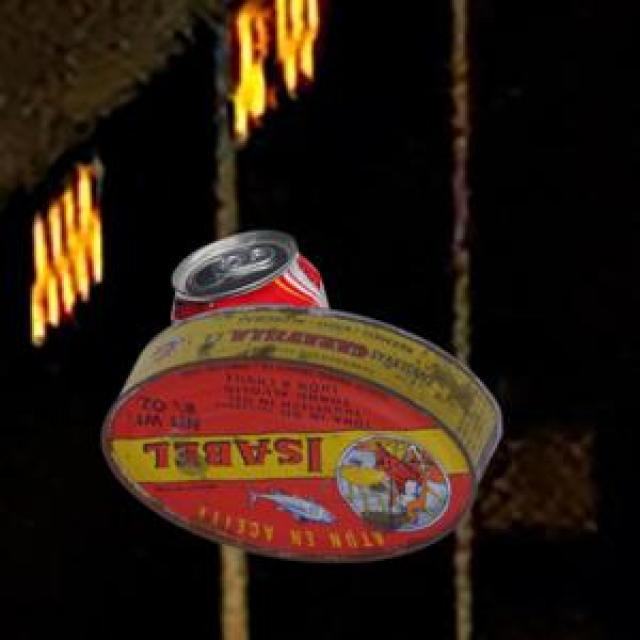Can: (99, 302, 498, 558), (170, 227, 325, 321)
